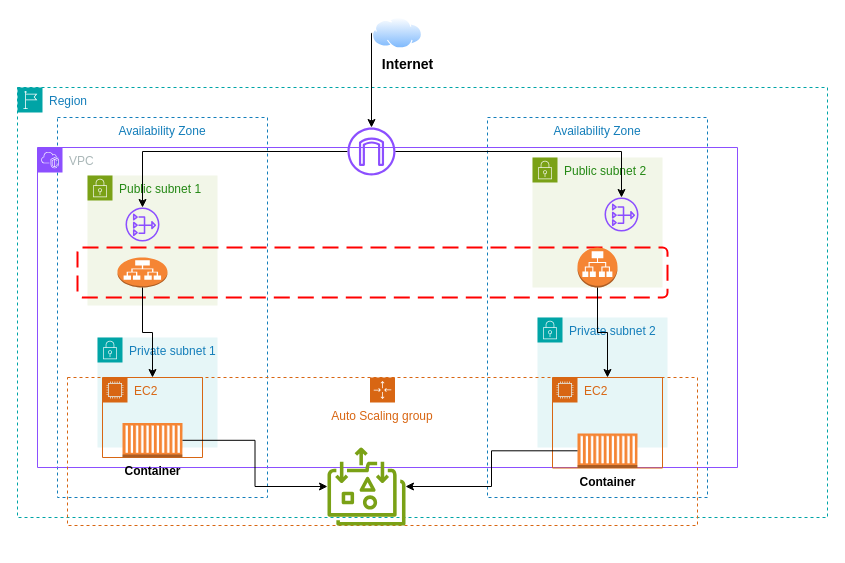
The diagram is 845 pixels wide and 563 high, and some of its shapes have lost their labels. The shapes that lost their labels are listed below. From the top down, each one's centre as x and y in pixels, then its label:
pixel 372 272: Security Group
pixel 366 486: Elastic file system
